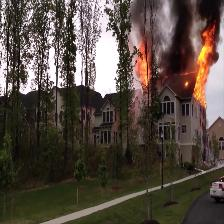fire: (193, 24, 216, 109), (135, 32, 152, 88)
